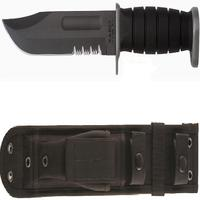knife: (1, 2, 199, 67)
